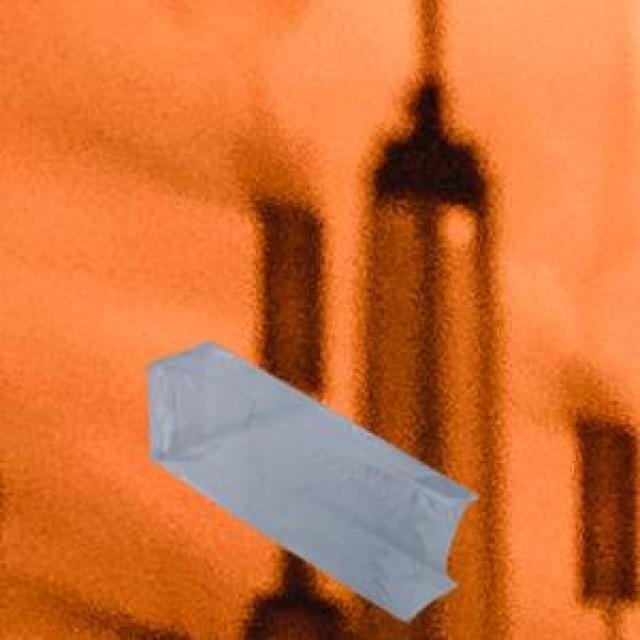waste: (149, 342, 474, 619)
